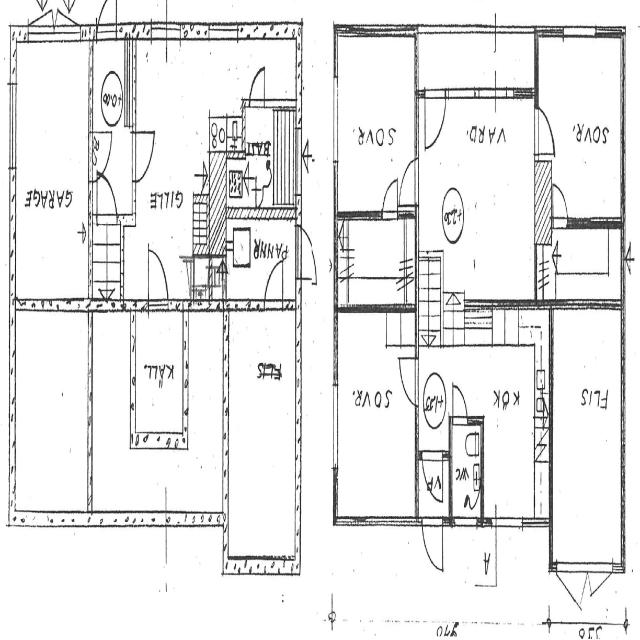door: (144, 241, 170, 311), (131, 122, 157, 187), (420, 449, 445, 510), (423, 87, 447, 150), (421, 515, 444, 574), (534, 102, 556, 160), (95, 172, 119, 223), (91, 129, 113, 183), (398, 353, 419, 406), (398, 154, 418, 208), (264, 257, 284, 309), (95, 0, 120, 41), (165, 19, 183, 72), (248, 62, 267, 107), (451, 381, 469, 425), (552, 181, 570, 225), (381, 176, 399, 219), (151, 2, 167, 49), (481, 45, 498, 80)
window: (6, 70, 18, 178), (329, 374, 341, 475), (330, 70, 340, 168), (562, 20, 597, 44), (492, 510, 524, 536)
zone: (422, 94, 538, 295), (12, 37, 92, 307), (550, 306, 623, 570), (457, 316, 549, 524), (225, 307, 298, 565), (334, 306, 417, 522), (133, 46, 208, 277), (12, 307, 91, 520), (540, 33, 624, 224), (334, 33, 416, 215), (185, 308, 226, 512), (131, 306, 187, 447), (337, 217, 416, 307), (545, 223, 622, 307), (227, 219, 299, 305), (232, 116, 274, 212), (450, 418, 482, 523), (90, 214, 123, 305), (272, 106, 298, 210), (419, 448, 449, 514), (191, 256, 214, 304)
